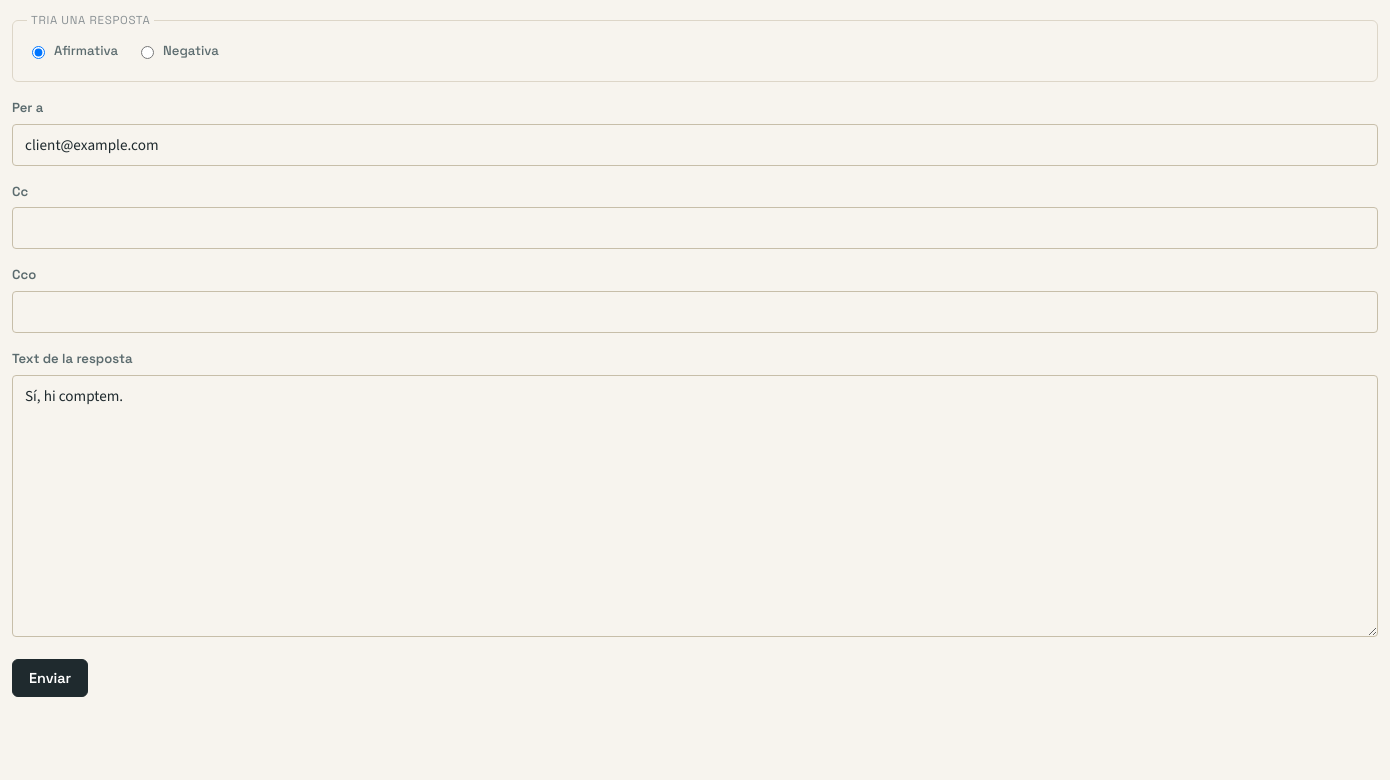
Test: DraftOptionsForm › re-opens the form with a warning when the send fails
What coordinates should you click on to do the following:
click the button "Enviar"
I would click on:
 (50, 678)
Its box is [12,659,88,697].
Wait 7000 ms
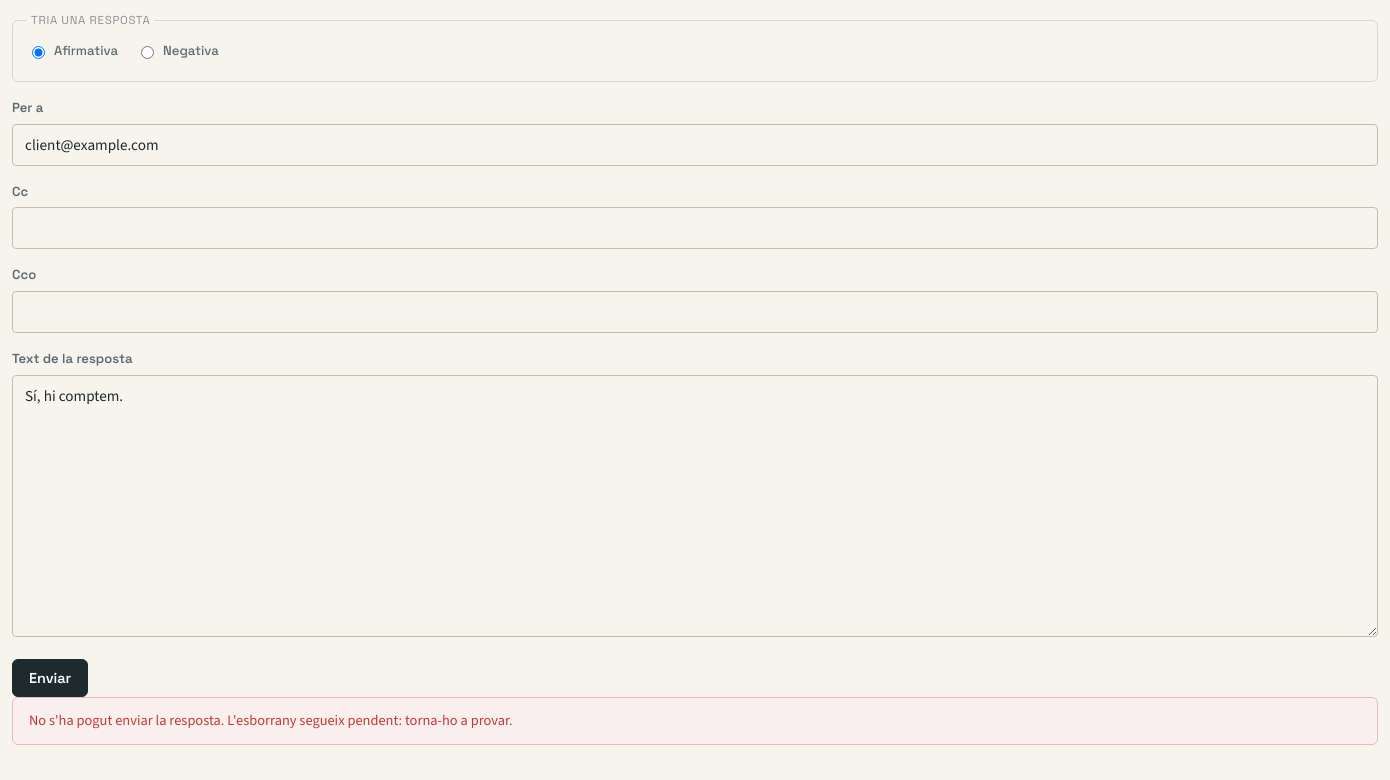
Expected: the message shows "No s'ha pogut enviar", [29,711,513,730]
